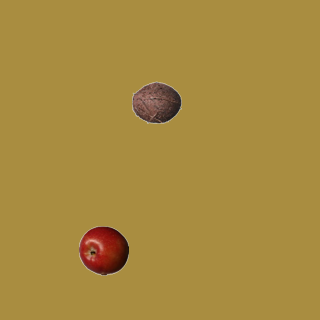Apple Braeburn: (78, 225, 128, 275)
Cocos: (131, 77, 181, 127)
